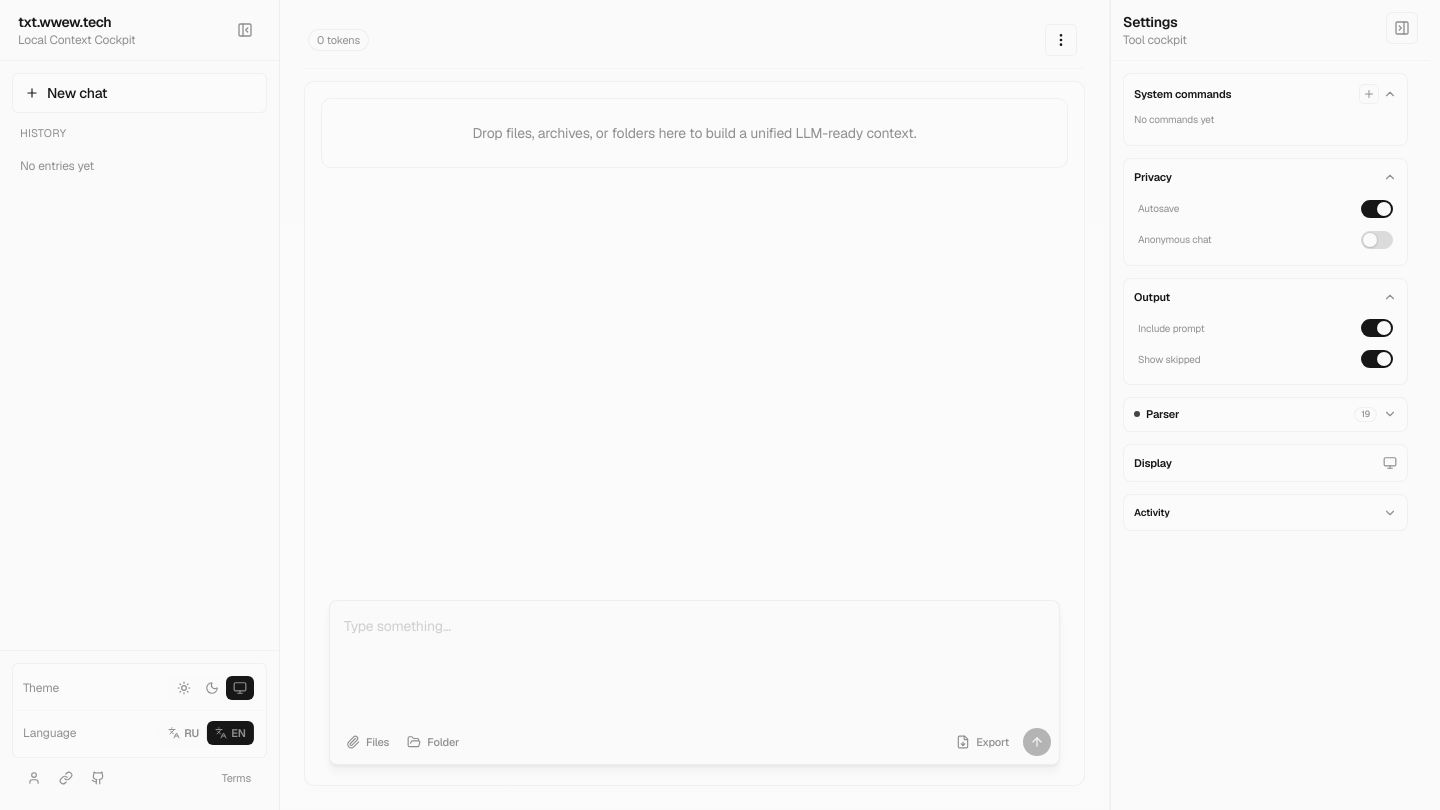
Test: Home central panel UI/UX › sends prompt and appends user bubble
This screenshot has width=1440, height=810.
Type "Сделай summary контекста" into the text box with placeholder "Type something…" at (694, 661), box [330,601,1059,721]
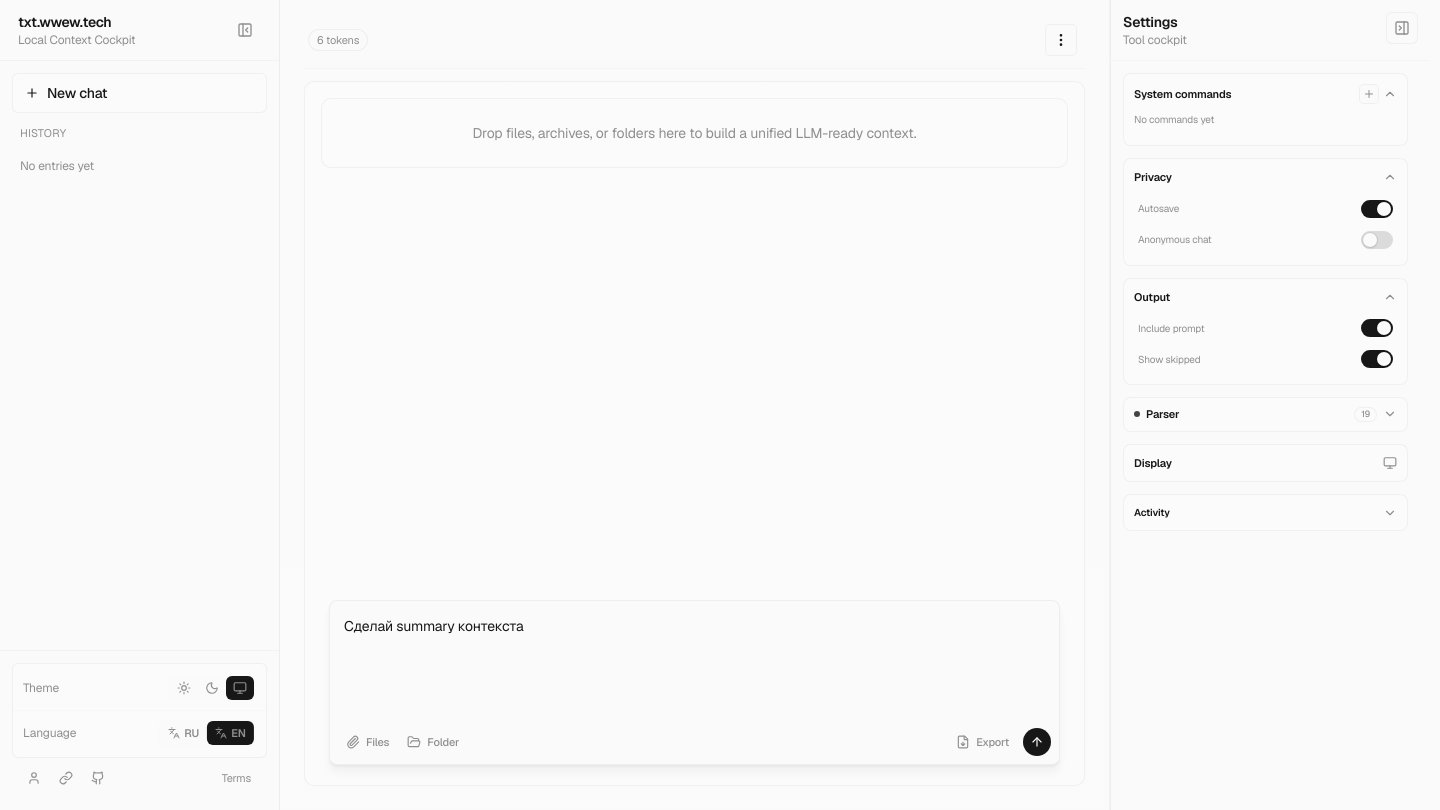
Click the button titled "Send" at (1037, 742), box [1023,728,1051,756]
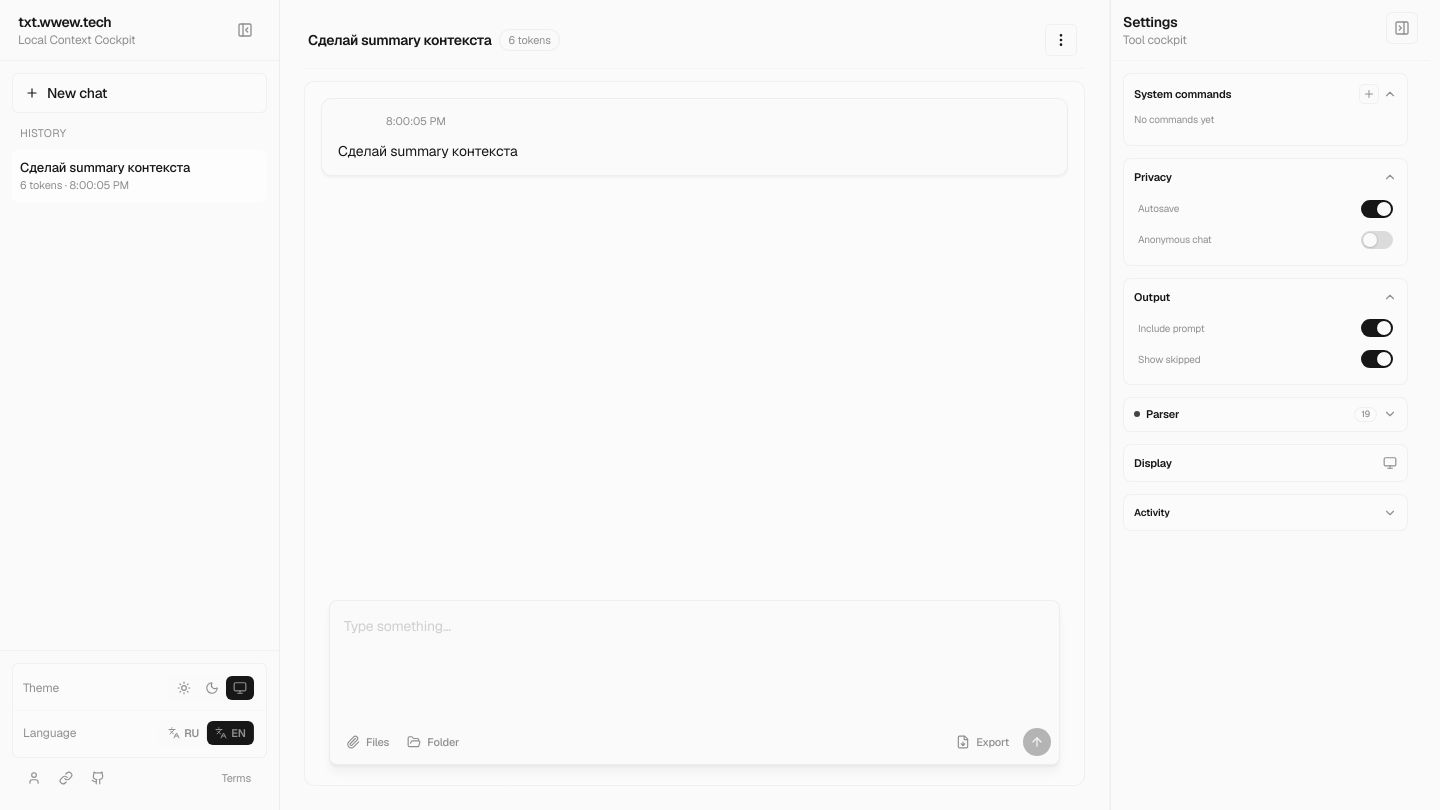
Check: the text "Сделай summary контекста" below "History" is shown, box [20,158,190,176]
